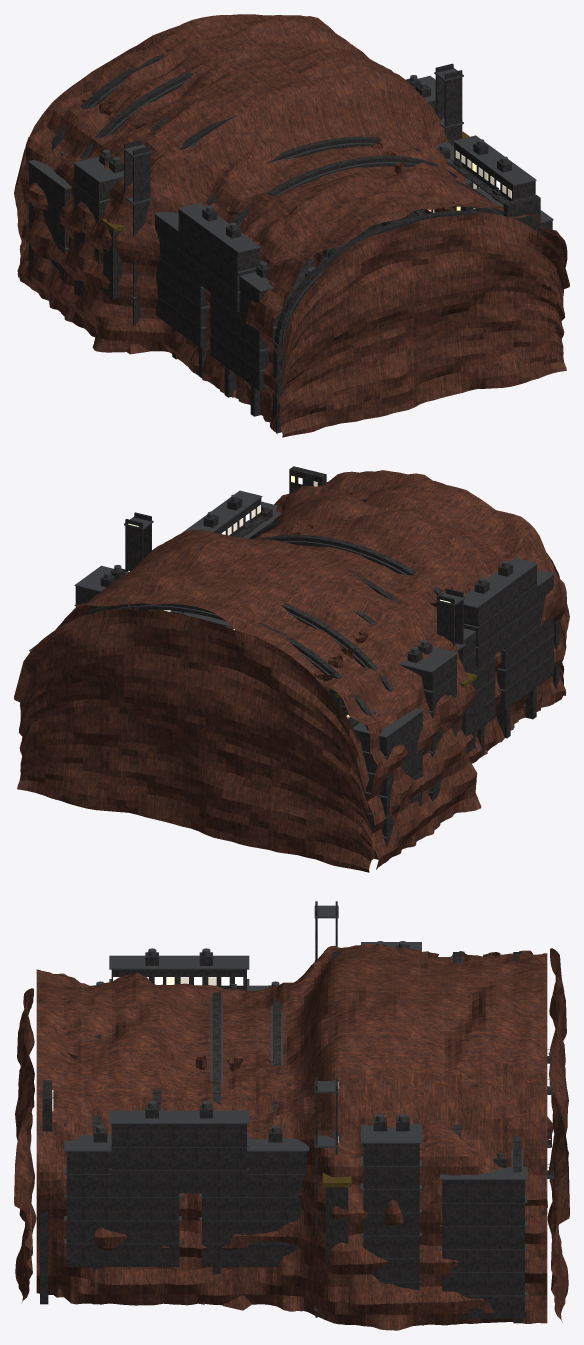
The model's file is vantor-cavern.glb.
3 views of the same model, one above another, from view 1: azimuth 30°, elevation 25°; view 2: azimuth 150°, elevation 25°; view 3: azimuth 270°, elevation 25° (orthographic). The views are drawn at different scales.
Parts seen in each view (by area): view 1: vantor_s2, vantor_s-1, vantor_s1, vantor_s-3, vantor_s0, vantor_s-2, vantor_s3; view 2: vantor_s-3, vantor_s-2, vantor_s1, vantor_s2, vantor_s-1, vantor_s-4, vantor_s0; view 3: vantor_s1, vantor_s-3, vantor_s-2, vantor_s-1, vantor_s0, vantor_s2, vantor_s-4, vantor_s3.
Boxes of the visible parts, <box> form: vantor_s2: <box>237,180,567,437</box>; vantor_s-1: <box>81,55,469,354</box>; vantor_s1: <box>177,135,553,404</box>; vantor_s-3: <box>15,14,349,304</box>; vantor_s0: <box>154,127,487,381</box>; vantor_s-2: <box>44,29,435,333</box>; vantor_s3: <box>284,234,569,418</box>; vantor_s-3: <box>17,570,423,872</box>; vantor_s-2: <box>64,539,457,846</box>; vantor_s1: <box>181,490,554,752</box>; vantor_s2: <box>261,466,568,719</box>; vantor_s-1: <box>110,512,481,818</box>; vantor_s-4: <box>14,633,366,847</box>; vantor_s0: <box>203,511,496,763</box>; vantor_s1: <box>64,948,249,1305</box>; vantor_s-3: <box>440,948,565,1323</box>; vantor_s-2: <box>361,941,471,1330</box>; vantor_s-1: <box>293,901,386,1329</box>; vantor_s0: <box>199,948,309,1311</box>; vantor_s2: <box>19,969,111,1304</box>; vantor_s-4: <box>560,982,569,1307</box>; vantor_s3: <box>14,1015,23,1291</box>.
Size of the model in its own units: 67.31 by 37.56 by 74.
12 materials, 4 textured.
